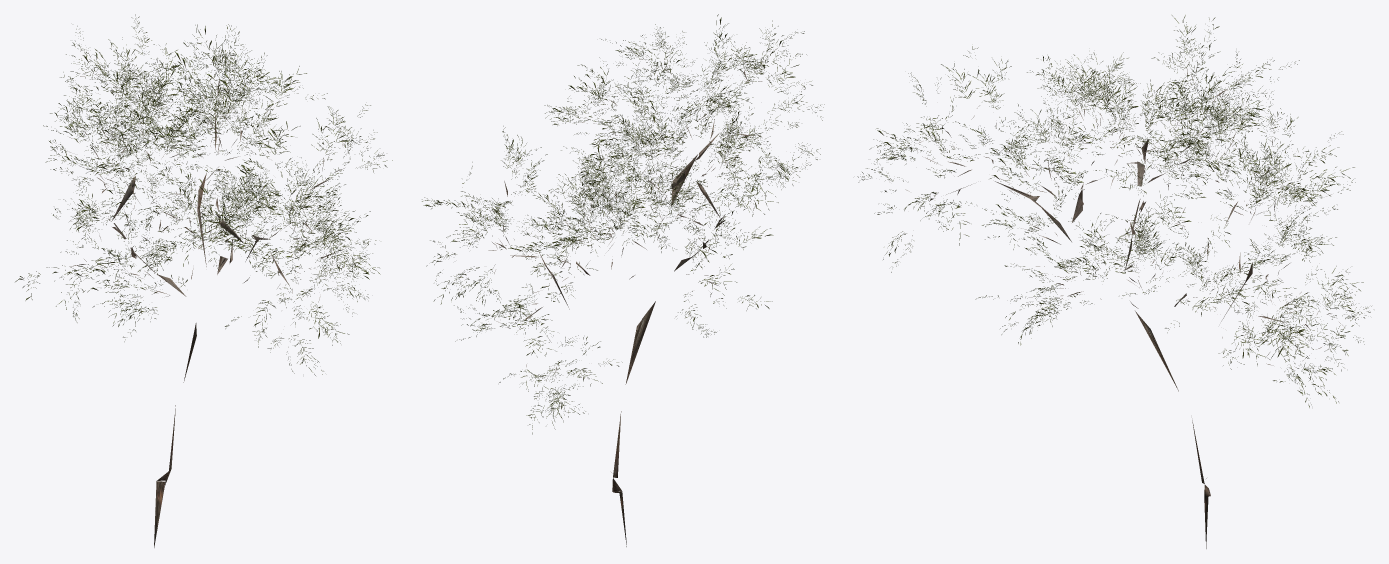
File: tree-natural.glb
The picture shows the model from 3 angles, left to right: view 1: azimuth 30°, elevation 25°; view 2: azimuth 150°, elevation 25°; view 3: azimuth 270°, elevation 25°; orthographic projection. The views are drawn at different scales.
Parts seen in each view (by area): view 1: tree_small_02_LOD0; view 2: tree_small_02_LOD0; view 3: tree_small_02_LOD0.
Boxes of the visible parts, x1,y1,x2,y2 form: tree_small_02_LOD0: [15, 14, 392, 547]; tree_small_02_LOD0: [422, 14, 824, 546]; tree_small_02_LOD0: [857, 15, 1371, 548].
Size of the model in its own units: 2.87 by 4.5 by 4.27.
3 materials, 3 textured.
